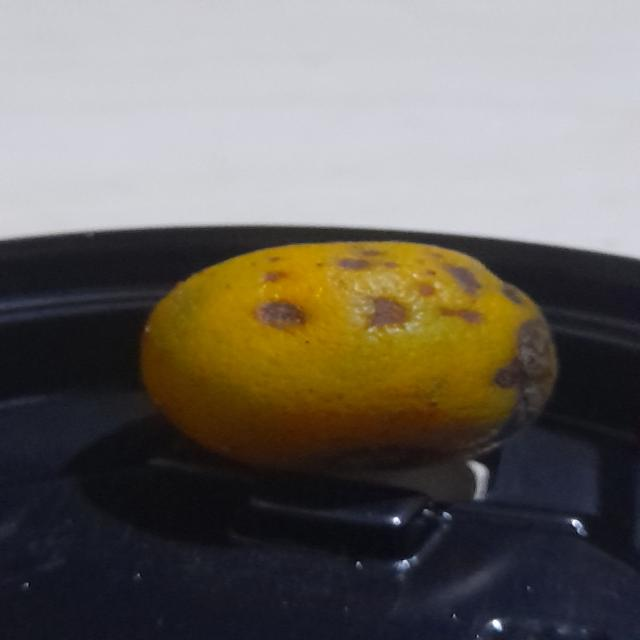black spot: (131, 222, 580, 483)
